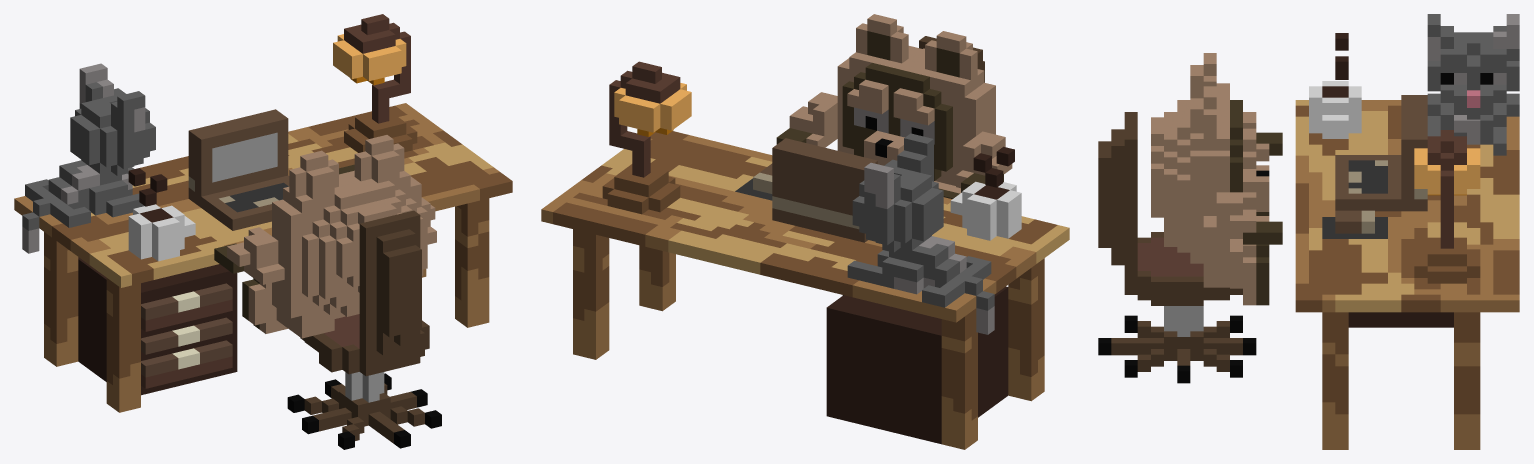
File: codebear.glb
3 views of the same model, side by side, from view 1: azimuth 30°, elevation 25°; view 2: azimuth 150°, elevation 25°; view 3: azimuth 270°, elevation 25° (orthographic). The views are drawn at different scales.
Visible parts, largest first — view 1: tsique_art_compact-0.001; view 2: tsique_art_compact-0.001; view 3: tsique_art_compact-0.001.
Part boxes in pixels (box(x1,y1,x2,y2)): tsique_art_compact-0.001: box(14, 14, 512, 449); tsique_art_compact-0.001: box(541, 14, 1069, 449); tsique_art_compact-0.001: box(1098, 14, 1519, 449).
Bounding box in the file's own units: 3.7 × 2.4 × 3.2.
Materials: 8 (8 with a texture image).
